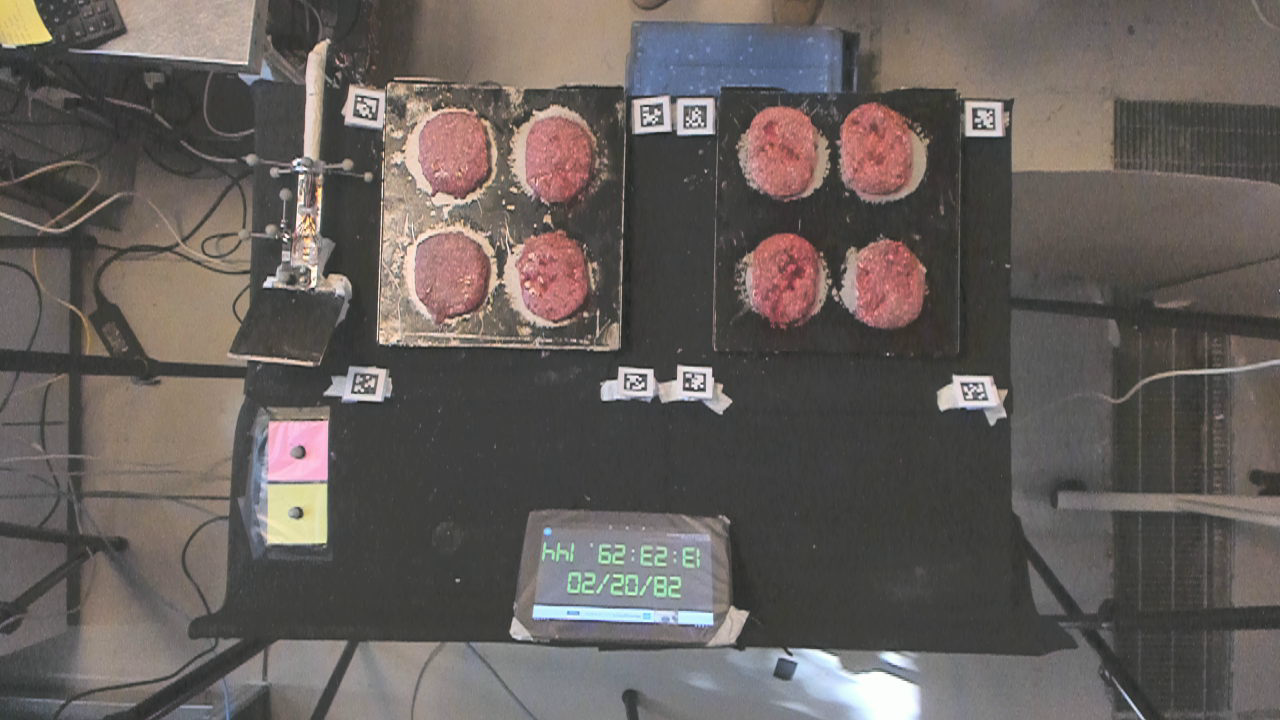hamburger: (837, 98, 916, 198), (742, 100, 816, 203), (407, 231, 492, 319), (416, 111, 497, 202), (747, 235, 819, 333), (519, 114, 595, 206), (519, 226, 587, 324), (855, 237, 928, 328)
marker: (268, 418, 328, 480)
